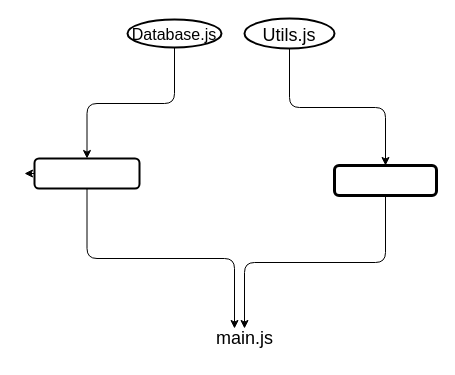
Some shapes in this 455 by 375 pixel diagram are drawn without their labels. The shapes that lost their labels are listed below. From the top down, each one's centre as x and y in pixels, then its label:
At pixel 86 173: "cattle.js/drovers.js".
At pixel 385 180: "journey.js".
